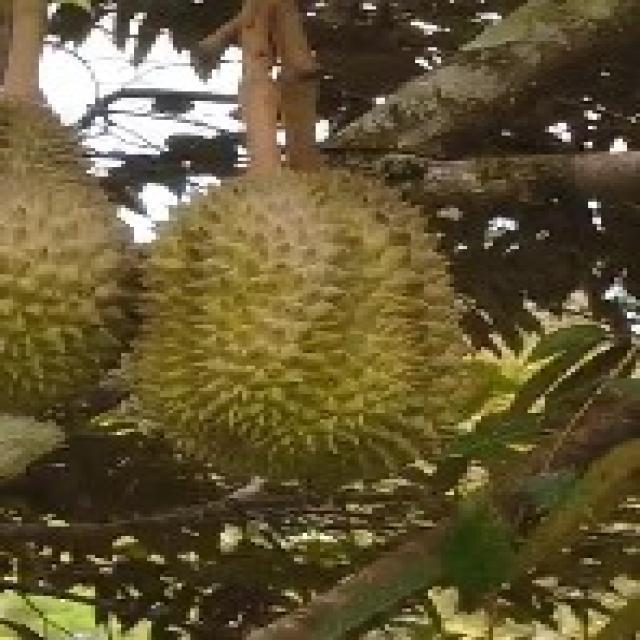immature: (126, 165, 466, 495)
